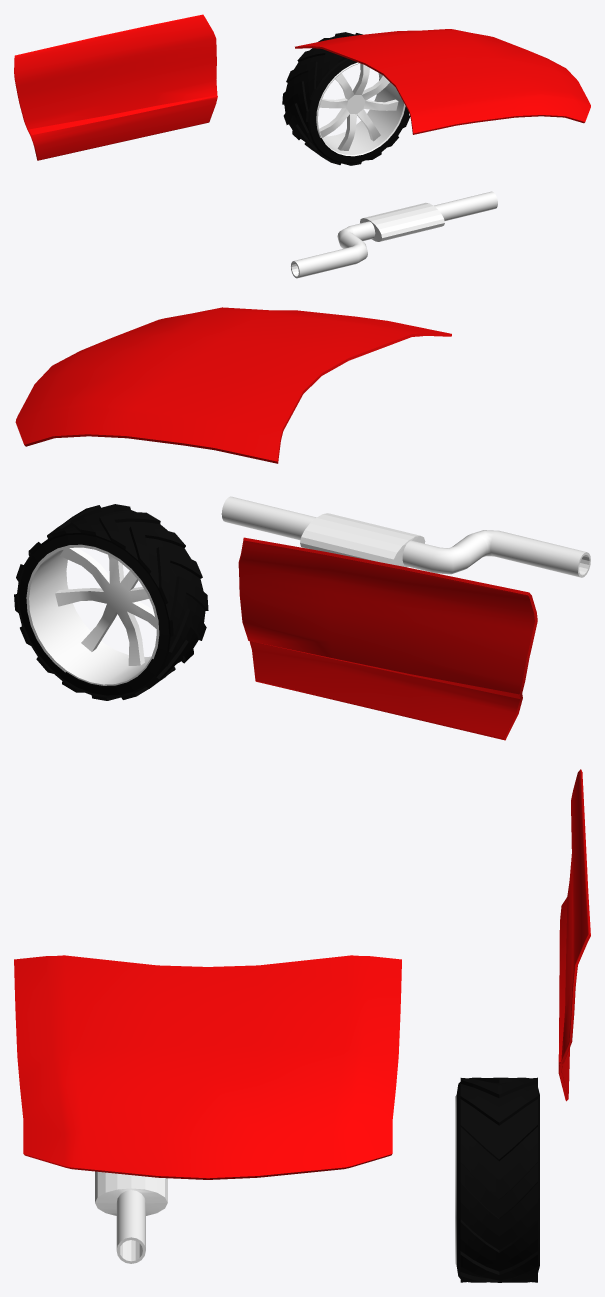
File: Musorm.fbx
3 renders of one model, top to bottom at view 1: azimuth 30°, elevation 25°; view 2: azimuth 150°, elevation 25°; view 3: azimuth 270°, elevation 25°, orthographic. The views are drawn at different scales.
Parts seen in each view (by area): view 1: Object001, Object002, Cylinder015, Cylinder016; view 2: Object001, Object002, Cylinder015, Cylinder016; view 3: Object002, Cylinder015, Object001, Cylinder016.
Part boxes in pixels (x1=…): Object001: x1=14, y1=14, x2=217, y2=160; Object002: x1=295, y1=29, x2=590, y2=134; Cylinder015: x1=282, y1=32, x2=410, y2=165; Cylinder016: x1=291, y1=191, x2=497, y2=278; Object001: x1=238, y1=537, x2=537, y2=740; Object002: x1=15, y1=307, x2=451, y2=463; Cylinder015: x1=14, y1=504, x2=208, y2=700; Cylinder016: x1=221, y1=496, x2=590, y2=577; Object002: x1=14, y1=955, x2=401, y2=1179; Cylinder015: x1=455, y1=1077, x2=539, y2=1282; Object001: x1=558, y1=769, x2=590, y2=1101; Cylinder016: x1=95, y1=1171, x2=167, y2=1263.
Bounding box in the file's own units: 294 × 102 × 203.
